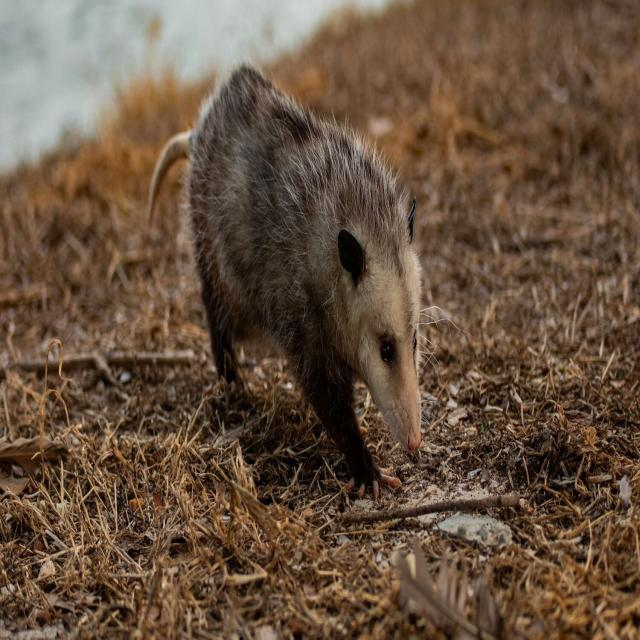possum: (147, 64, 423, 498)
